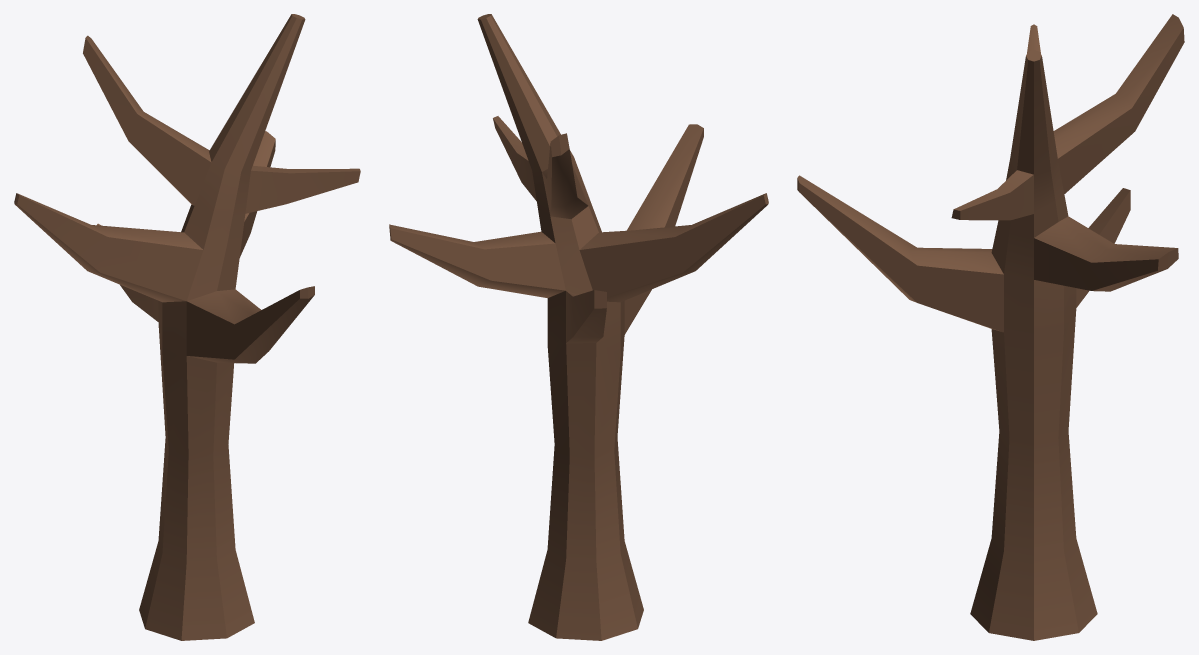
Rendered from obj_ranch_1.fbx.
3 renders of one model, left to right at view 1: azimuth 30°, elevation 25°; view 2: azimuth 150°, elevation 25°; view 3: azimuth 270°, elevation 25°, orthographic. The views are drawn at different scales.
Parts seen in each view (by area): view 1: obj_ranch_1; view 2: obj_ranch_1; view 3: obj_ranch_1.
Part boxes in pixels (box(x1,y1,x2,y2)): obj_ranch_1: box(14, 14, 360, 640); obj_ranch_1: box(389, 14, 768, 640); obj_ranch_1: box(797, 14, 1184, 640).
Size of the model in its own units: 2.6 by 4.49 by 2.57.
Materials: 1 (1 with a texture image).
